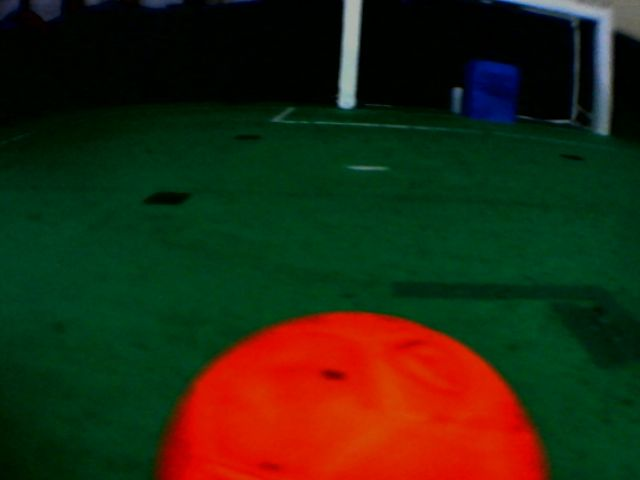ball: (137, 303, 562, 480)
